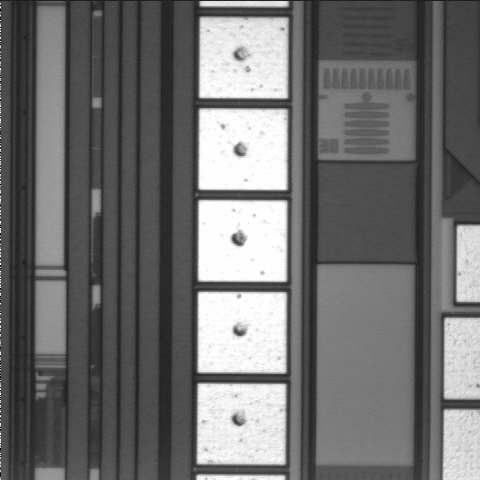pad: (198, 200, 287, 282), (199, 17, 288, 98), (199, 109, 288, 190), (198, 292, 287, 373), (197, 384, 286, 465)
